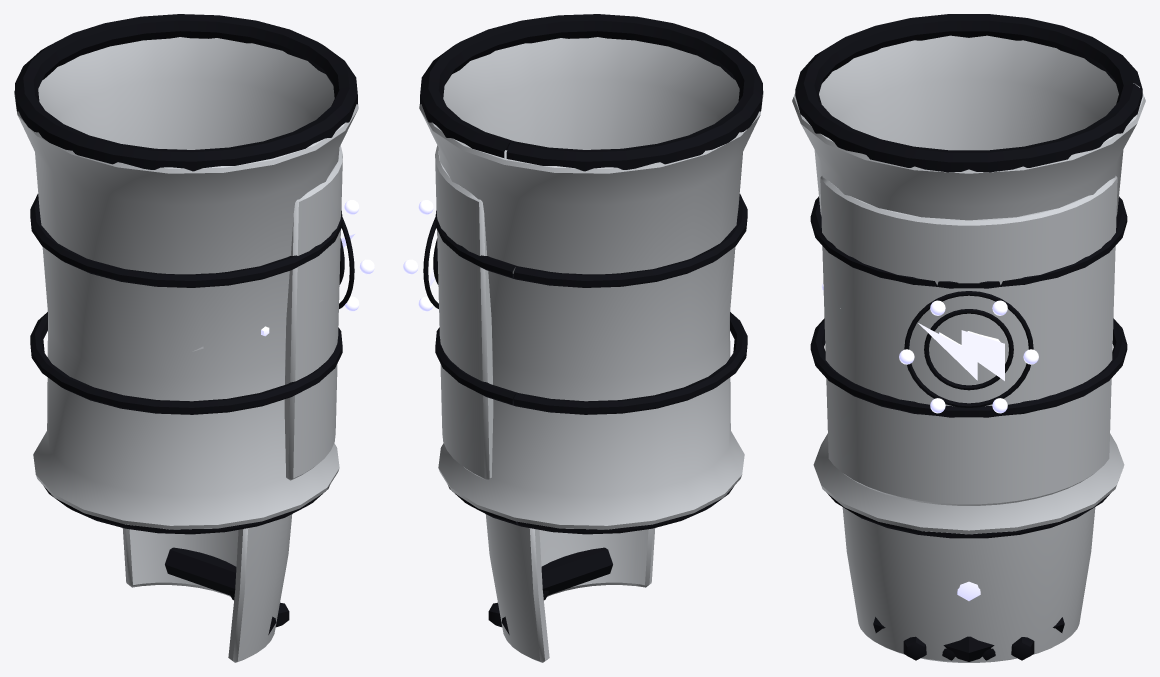
Rendered from esc_oblivion_warden_gloves.glb.
3 views of the same model, side by side, from view 1: azimuth 30°, elevation 25°; view 2: azimuth 150°, elevation 25°; view 3: azimuth 270°, elevation 25° (orthographic).
Visible parts, largest first — view 1: esc_oblivion_warden_gloves, AT_hand_L; view 2: esc_oblivion_warden_gloves, AT_hand_L; view 3: esc_oblivion_warden_gloves, AT_hand_L.
Boxes of the visible parts, x1,y1,x2,y2 form: esc_oblivion_warden_gloves: (14,14,374,534); AT_hand_L: (122,514,292,662); esc_oblivion_warden_gloves: (403,14,763,534); AT_hand_L: (485,514,655,662); esc_oblivion_warden_gloves: (792,14,1145,538); AT_hand_L: (842,507,1095,662).
Size of the model in its own units: 0.202 by 0.3408 by 0.2004.
